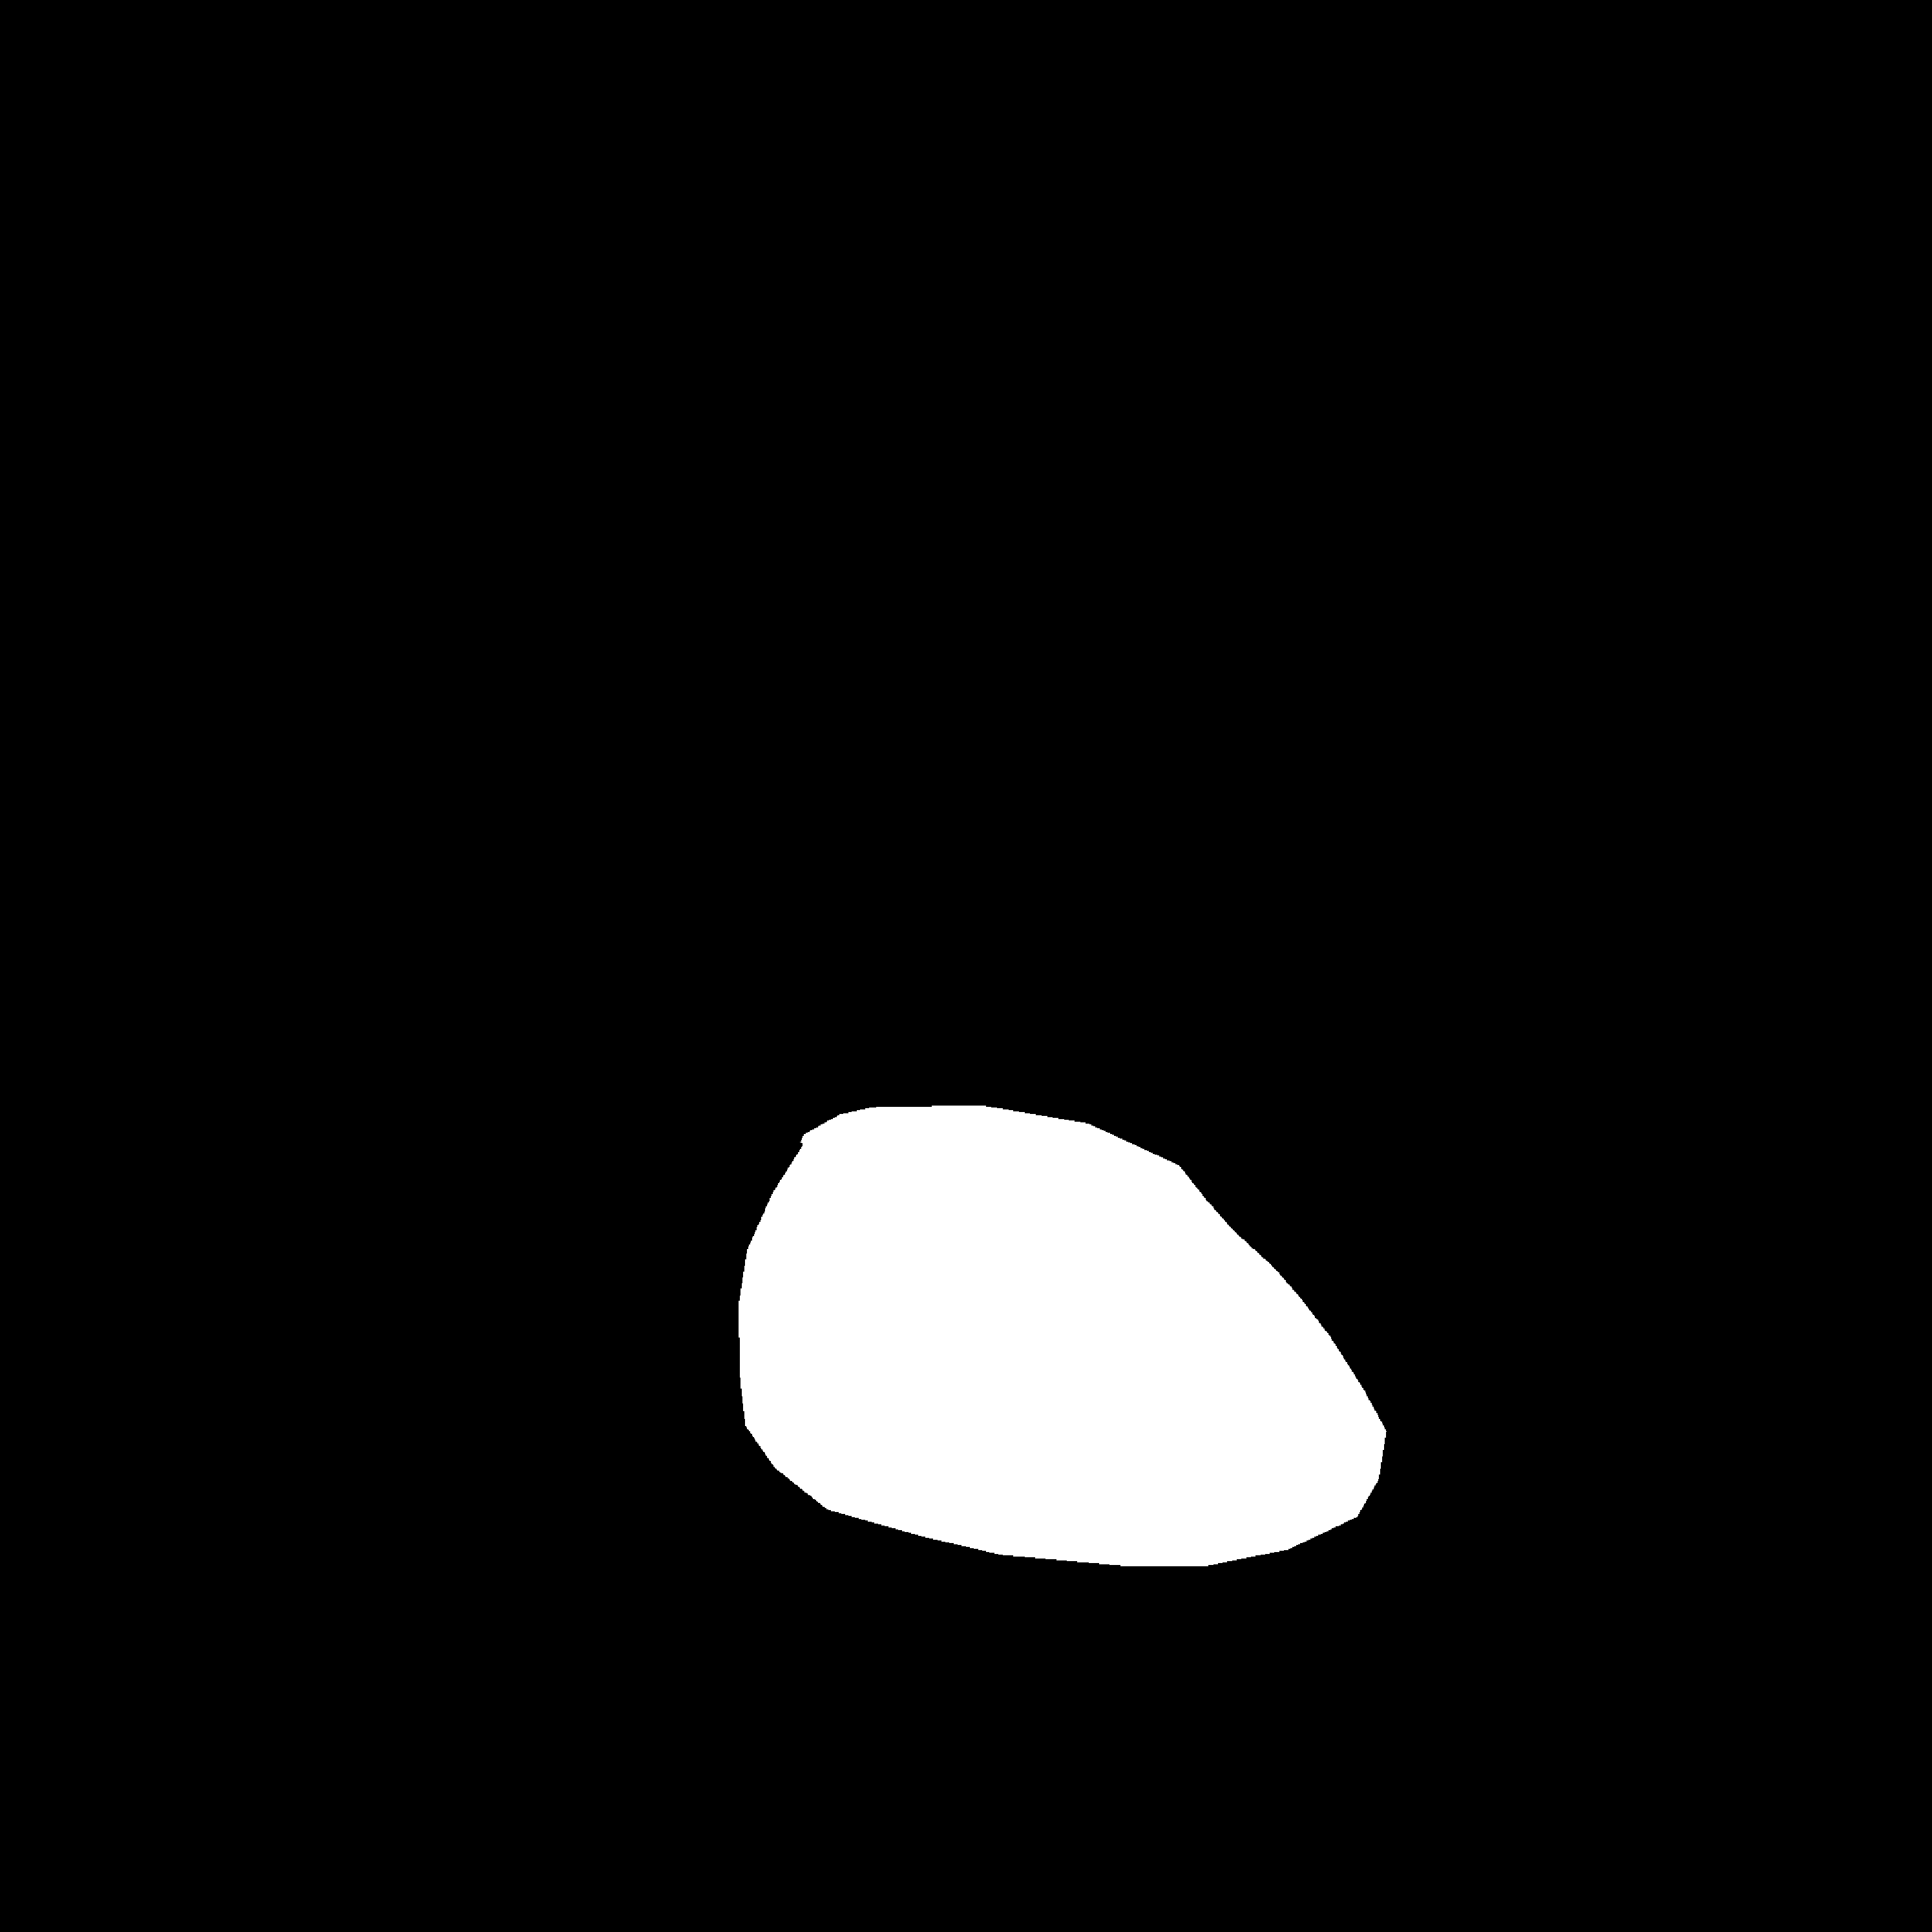heart: (732, 1185, 1392, 1601)
left_lung: (218, 336, 883, 1714)
right_lung: (1024, 366, 1576, 1661)
